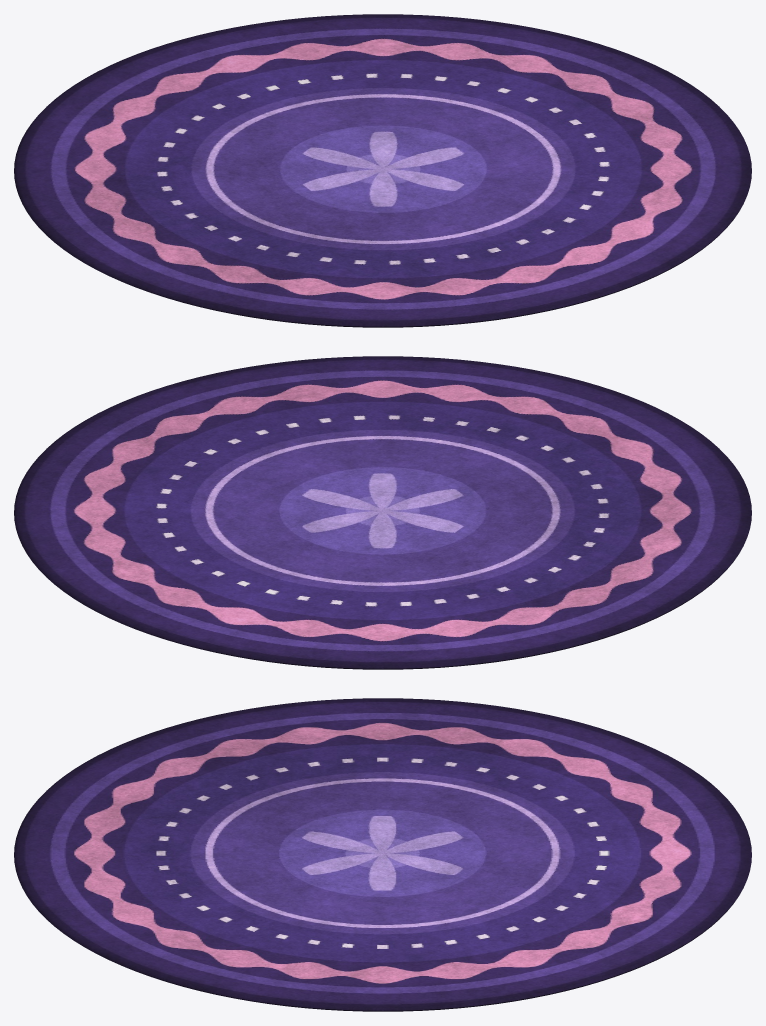
The model's file is rug.fbx.
3 views of the same model, one above another, from view 1: azimuth 30°, elevation 25°; view 2: azimuth 150°, elevation 25°; view 3: azimuth 270°, elevation 25° (orthographic).
Visible parts, largest first — view 1: rug; view 2: rug; view 3: rug.
Part boxes in pixels (x1,y1,x2,y2): rug: (14, 14, 751, 327); rug: (14, 356, 751, 669); rug: (14, 698, 751, 1011).
Bounding box in the file's own units: 3 × 0.016 × 3.
